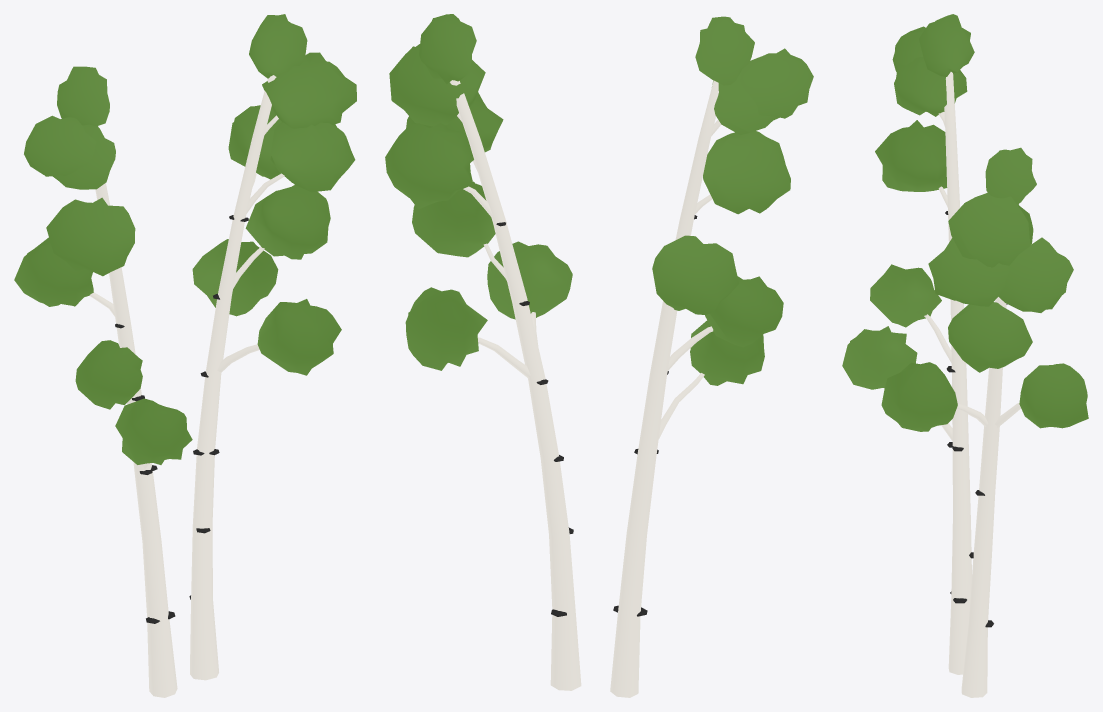
The model's file is Blender_PaperBirch_2.glb.
The picture shows the model from 3 angles, left to right: view 1: azimuth 30°, elevation 25°; view 2: azimuth 150°, elevation 25°; view 3: azimuth 270°, elevation 25°; orthographic projection. The views are drawn at different scales.
Parts seen in each view (by area): view 1: Blender_PaperBirch_2; view 2: Blender_PaperBirch_2; view 3: Blender_PaperBirch_2.
Boxes of the visible parts, box(x1,y1,x2,y2) form: Blender_PaperBirch_2: box(14, 14, 356, 697); Blender_PaperBirch_2: box(385, 14, 813, 697); Blender_PaperBirch_2: box(842, 14, 1088, 697).
Bounding box in the file's own units: 8.55 × 15.01 × 5.45.
